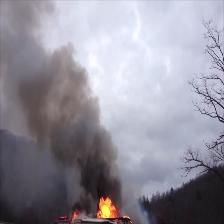fire: (99, 195, 117, 217)
smoke: (50, 63, 88, 156), (12, 22, 47, 103), (91, 127, 115, 191)
